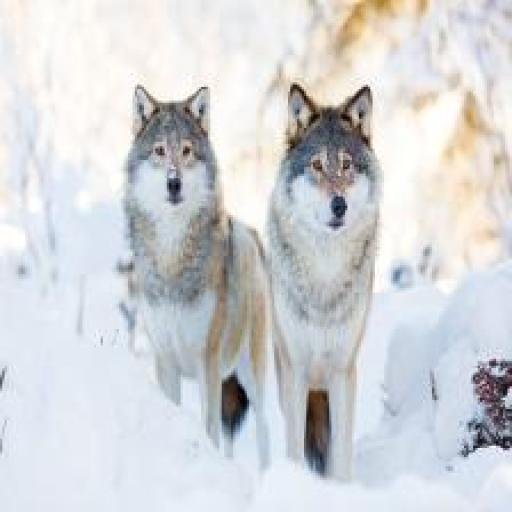wolf: (82, 36, 260, 471), (265, 75, 417, 472)
